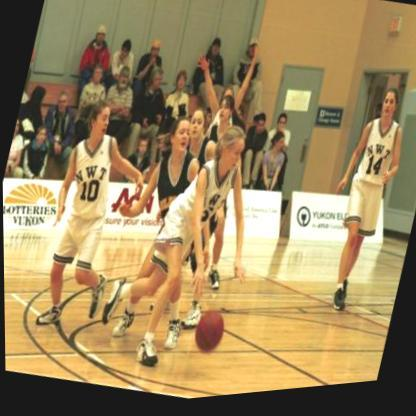basketball: (188, 306, 229, 362)
